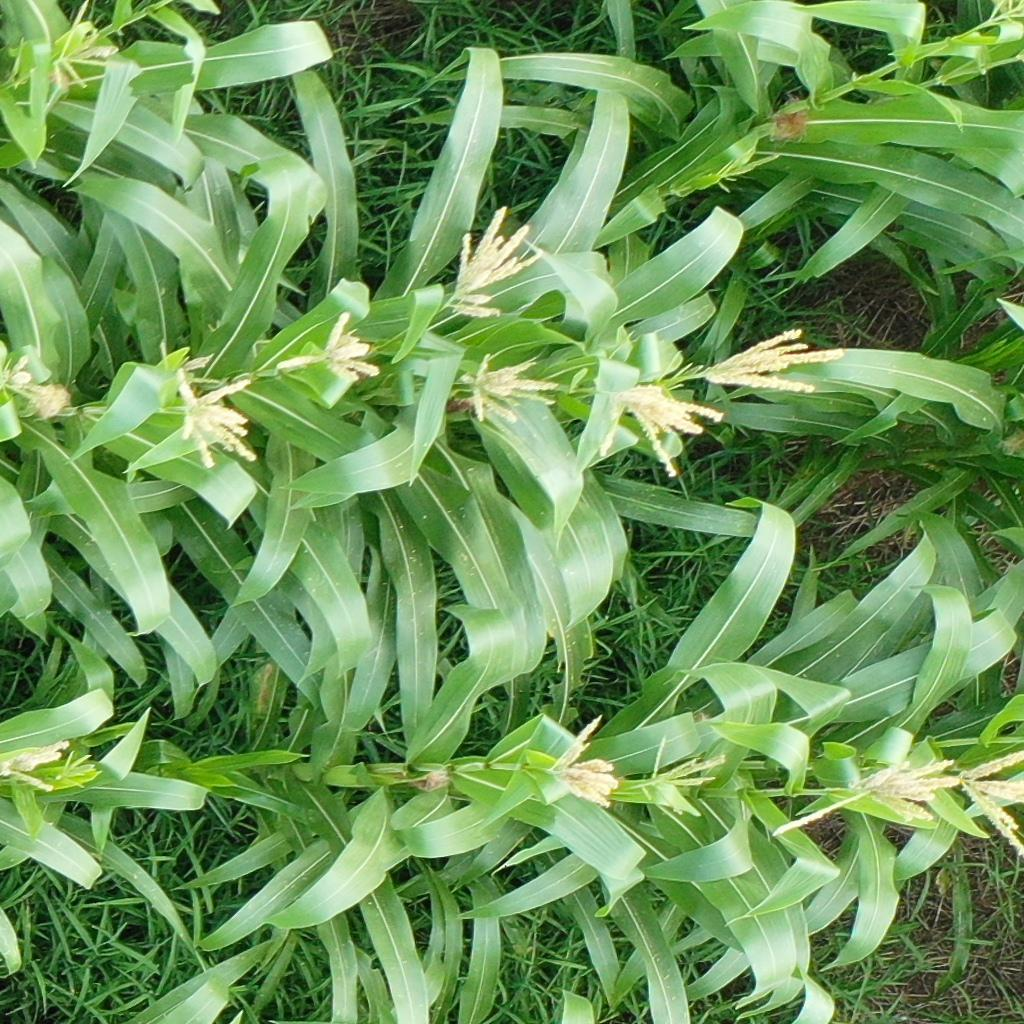Tassel: (771, 753, 960, 842), (594, 383, 726, 477), (442, 208, 543, 323), (701, 330, 847, 396), (176, 369, 259, 467), (274, 313, 383, 386), (49, 1, 128, 94), (642, 734, 726, 819), (550, 714, 622, 811), (959, 750, 1024, 856), (467, 353, 559, 423), (1, 740, 69, 799), (715, 147, 782, 195), (156, 342, 221, 388), (1, 353, 53, 407), (657, 351, 703, 402), (63, 752, 97, 788), (983, 1, 1024, 24)
